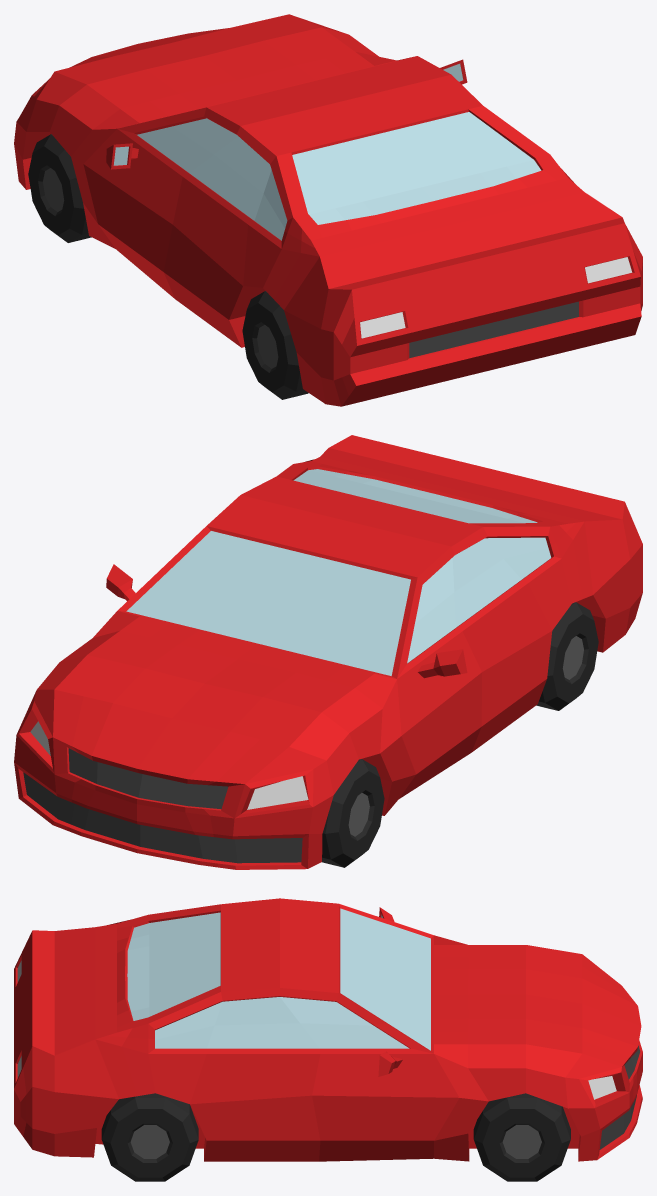
Rendered from redcar.gltf.
The picture shows the model from 3 angles, top to bottom: view 1: azimuth 30°, elevation 25°; view 2: azimuth 150°, elevation 25°; view 3: azimuth 270°, elevation 25°; orthographic projection. The views are drawn at different scales.
Visible parts, largest first — view 1: Body_Cube.001, BackLeftWheel_Cylinder.001, FrontLeftWheel_Cylinder; view 2: Body_Cube.001, FrontLeftWheel_Cylinder, BackLeftWheel_Cylinder.001; view 3: Body_Cube.001, BackRightWheel_Cylinder.003, FrontRightWheel_Cylinder.002.
Part boxes in pixels (x1,y1,x2,y2): Body_Cube.001: (14,14,642,406); BackLeftWheel_Cylinder.001: (242,291,308,399); FrontLeftWheel_Cylinder: (28,134,91,242); Body_Cube.001: (14,435,642,869); FrontLeftWheel_Cylinder: (322,759,384,867); BackLeftWheel_Cylinder.001: (536,602,598,710); Body_Cube.001: (14,898,642,1161); BackRightWheel_Cylinder.003: (101,1093,198,1181); FrontRightWheel_Cylinder.002: (473,1093,570,1181).
Bounding box in the file's own units: 1.07 × 0.5792 × 1.87.
